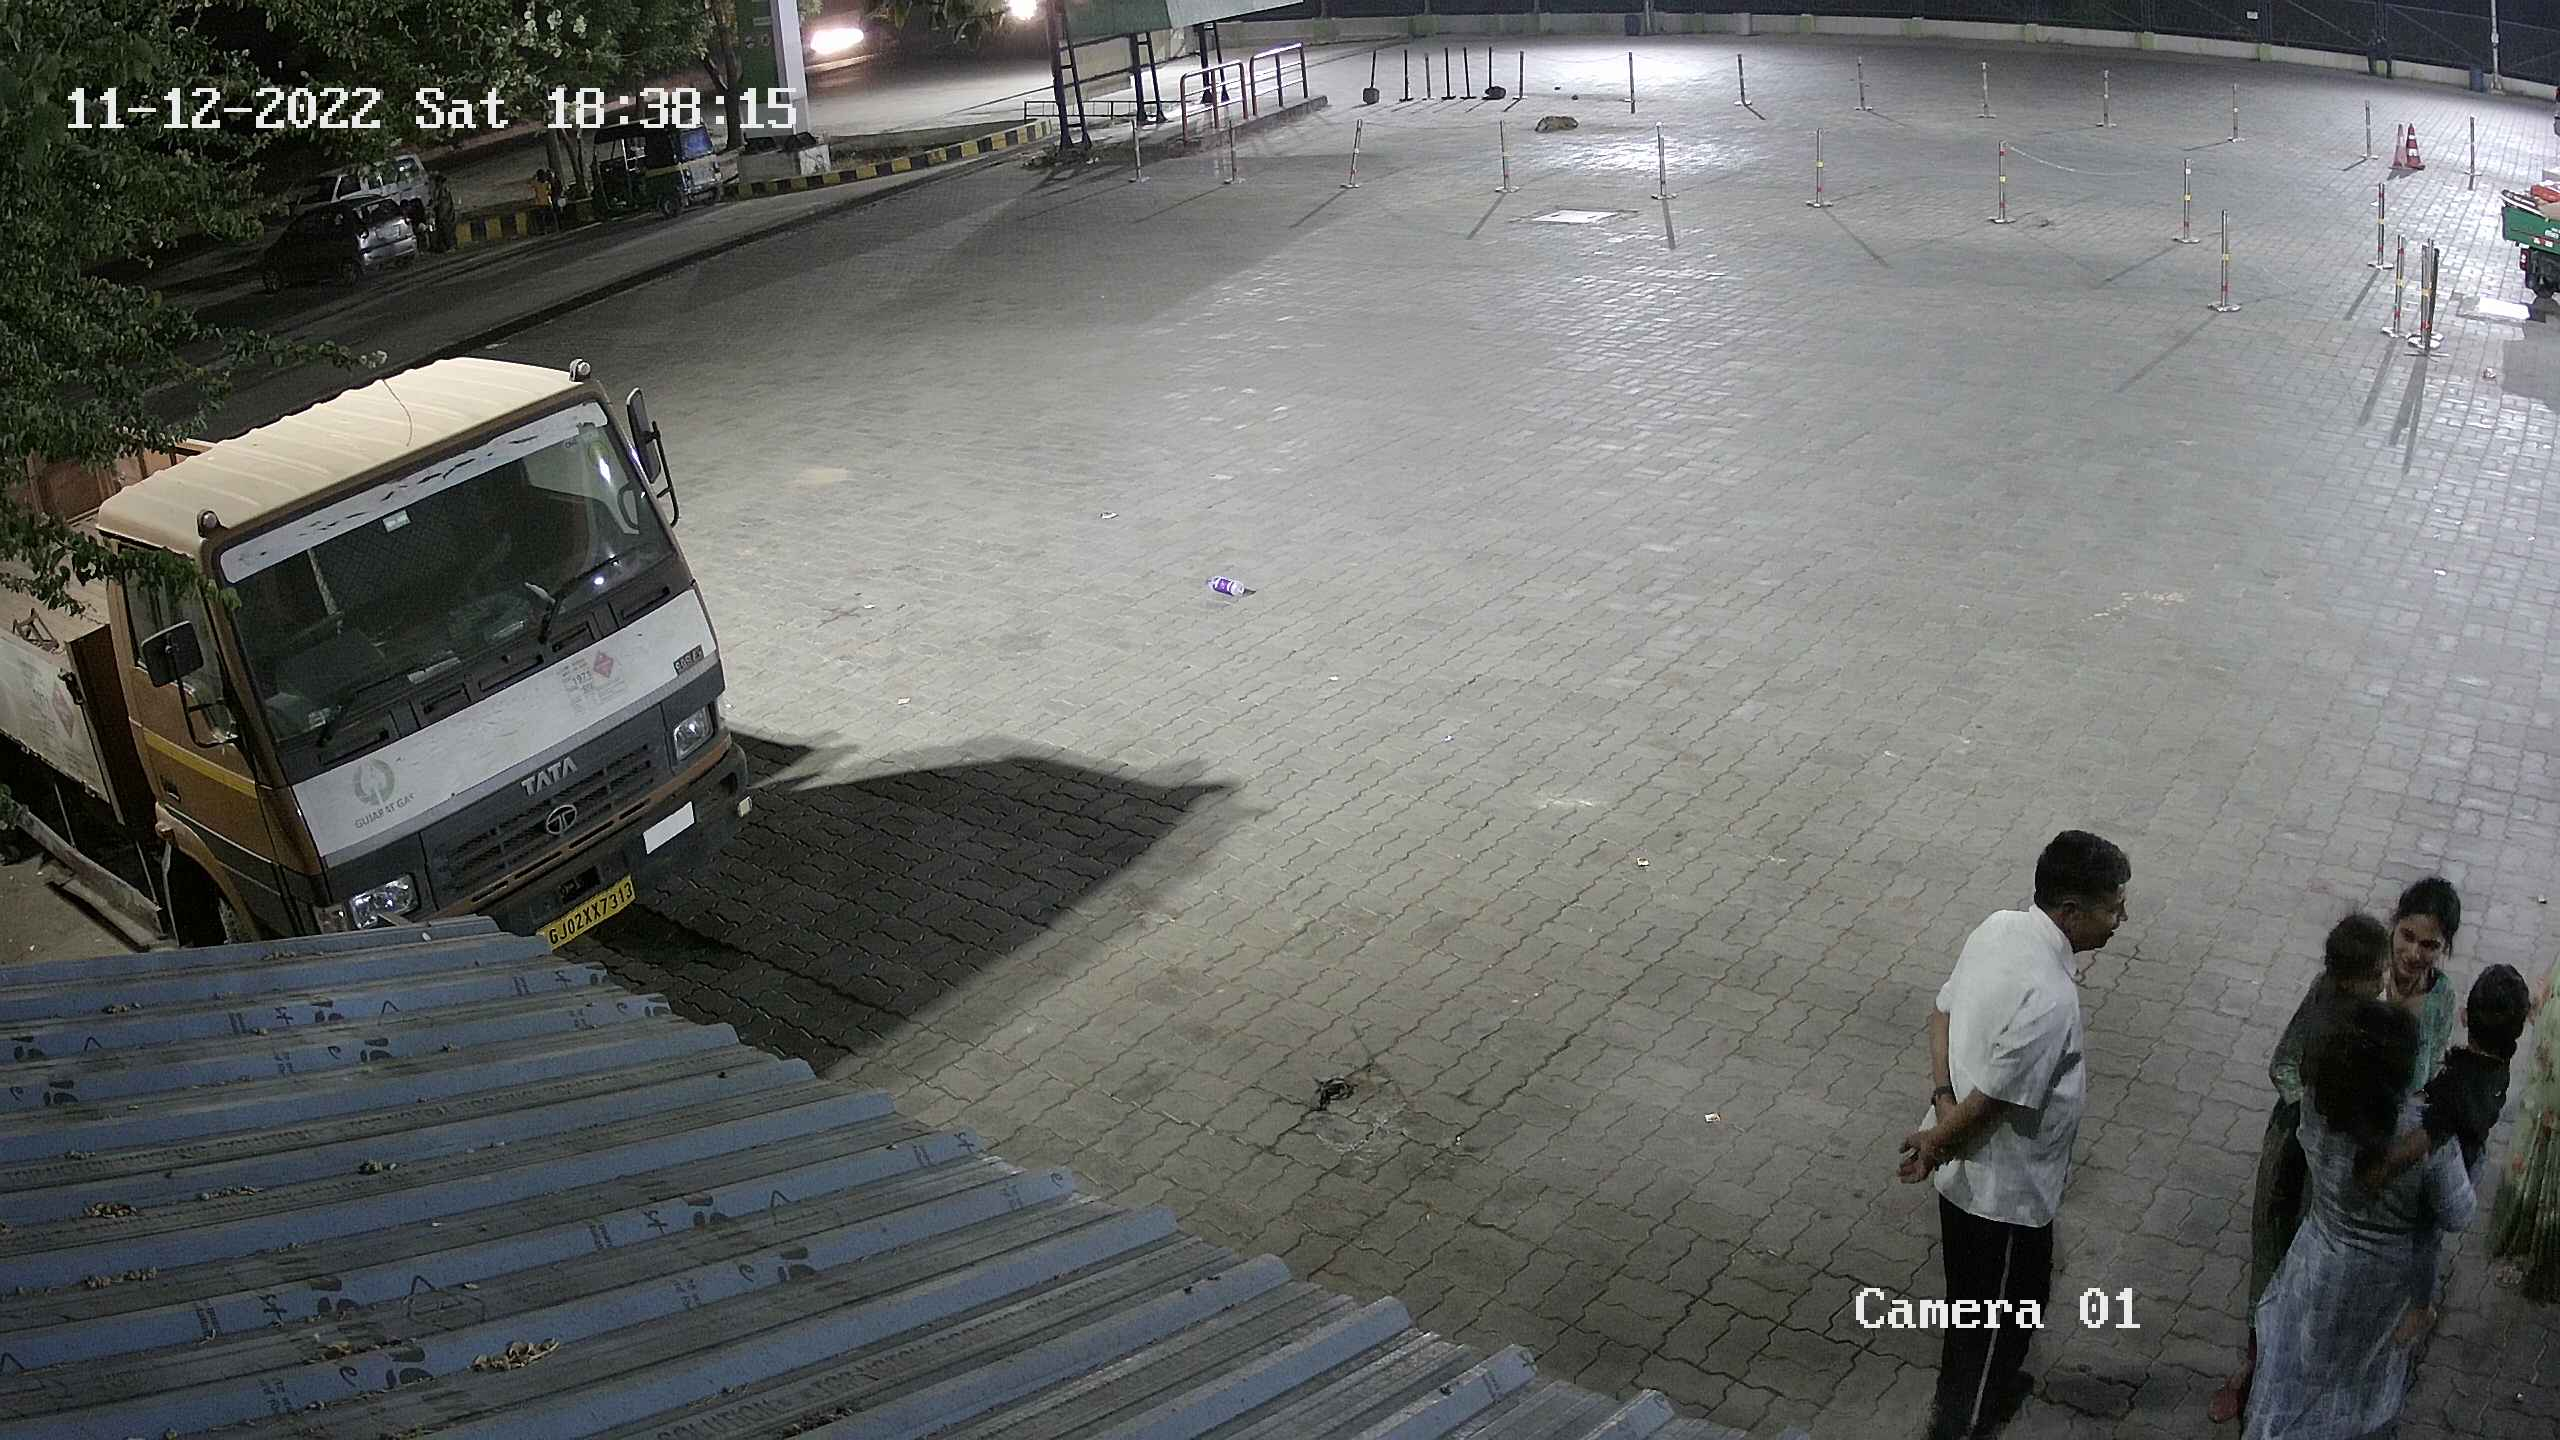Auto: (573, 91, 733, 230), (2500, 149, 2556, 322)
Car: (244, 185, 427, 294), (283, 141, 448, 258)
HMV: (0, 331, 763, 978)
